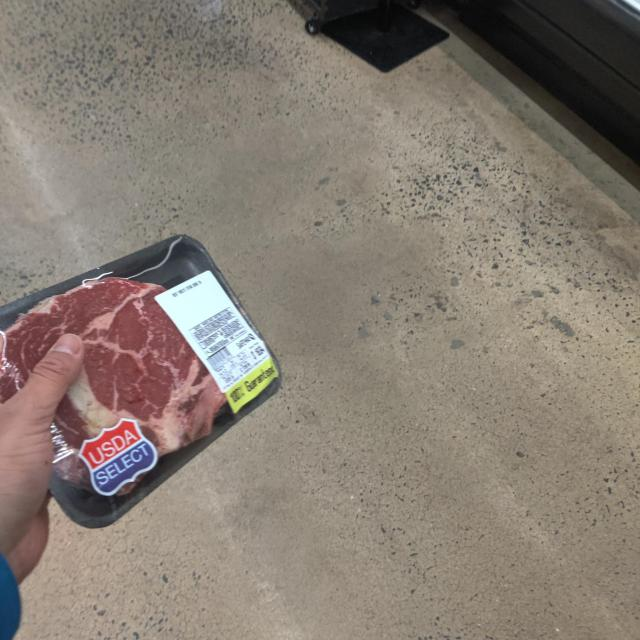Meat: (0, 237, 284, 518)
